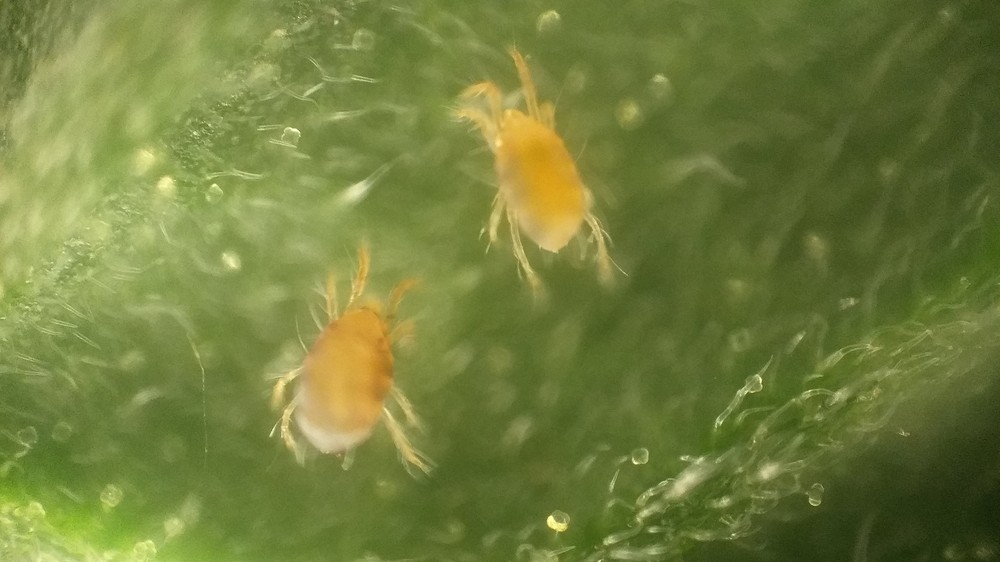Aracnido Rojo: (438, 37, 647, 304), (252, 239, 464, 474)
